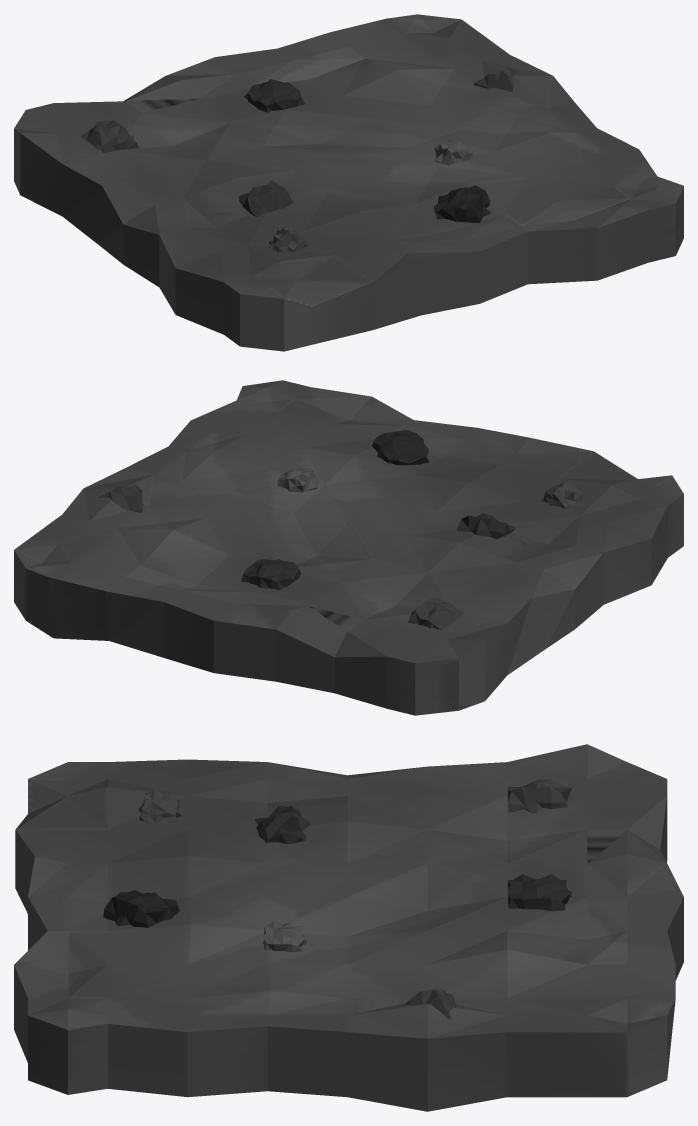
File: block.obj
3 views of the same model, one above another, from view 1: azimuth 30°, elevation 25°; view 2: azimuth 150°, elevation 25°; view 3: azimuth 270°, elevation 25° (orthographic). The views are drawn at different scales.
Visible parts, largest first — view 1: Cube, 立方体.003, 立方体.006, 立方体.010, 立方体.002, 立方体.001, 立方体.009, 立方体; view 2: Cube, 立方体.003, 立方体.006, 立方体.002, 立方体.010, 立方体.001, 立方体.009, 立方体; view 3: Cube, 立方体.003, 立方体.006, 立方体.002, 立方体.010, 立方体.009, 立方体.001, 立方体.
Part boxes in pixels (x1,y1,x2,y2): Cube: [14, 14, 683, 351]; 立方体.003: [433, 185, 490, 222]; 立方体.006: [244, 79, 304, 112]; 立方体.010: [239, 180, 293, 217]; 立方体.002: [81, 120, 138, 153]; 立方体.001: [434, 140, 474, 165]; 立方体.009: [268, 226, 308, 252]; 立方体: [473, 67, 519, 91]; Cube: [14, 380, 683, 715]; 立方体.003: [372, 430, 429, 465]; 立方体.006: [241, 559, 301, 590]; 立方体.002: [408, 597, 464, 630]; 立方体.010: [457, 513, 516, 538]; 立方体.001: [277, 468, 318, 492]; 立方体.009: [540, 480, 582, 508]; 立方体: [99, 484, 143, 512]; Cube: [14, 744, 683, 1111]; 立方体.003: [103, 890, 180, 927]; 立方体.006: [508, 874, 571, 911]; 立方体.002: [508, 780, 571, 813]; 立方体.010: [254, 805, 310, 843]; 立方体.009: [138, 790, 180, 823]; 立方体.001: [263, 921, 306, 952]; 立方体: [404, 989, 457, 1019].
Bounding box in the file's own units: 8.37 × 1.63 × 8.28.
Materials: 1 (1 with a texture image).
